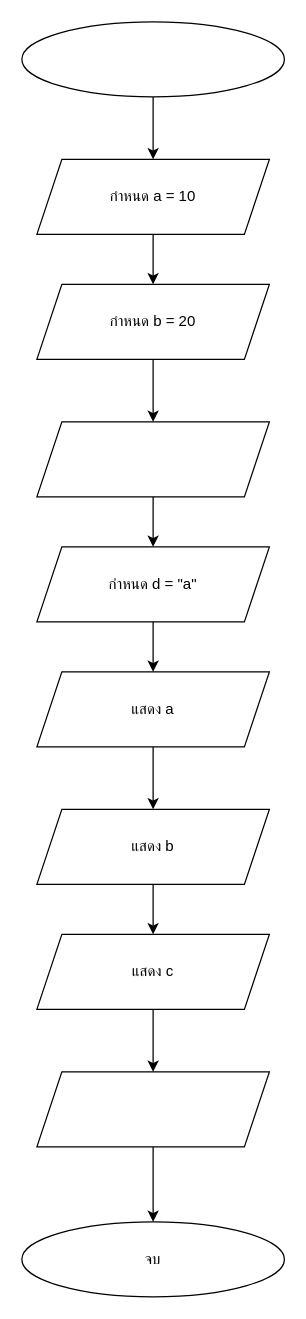
The diagram is 306 pixels wide and 1319 high, and some of its shapes have lost their labels. The shapes that lost their labels are listed below. From the top down, each one's centre as x and y in pixels, then its label:
the point at 152,59: เริ่มต้น
the point at 152,459: กำหนด c = "Haha"
the point at 152,1109: แสดง d
